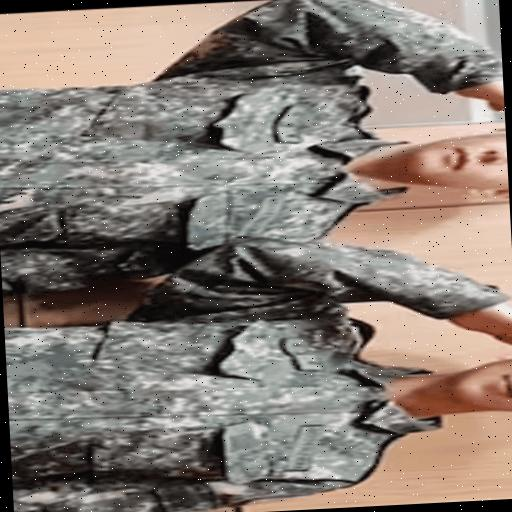korea army: (0, 0, 511, 281), (8, 230, 512, 512)
